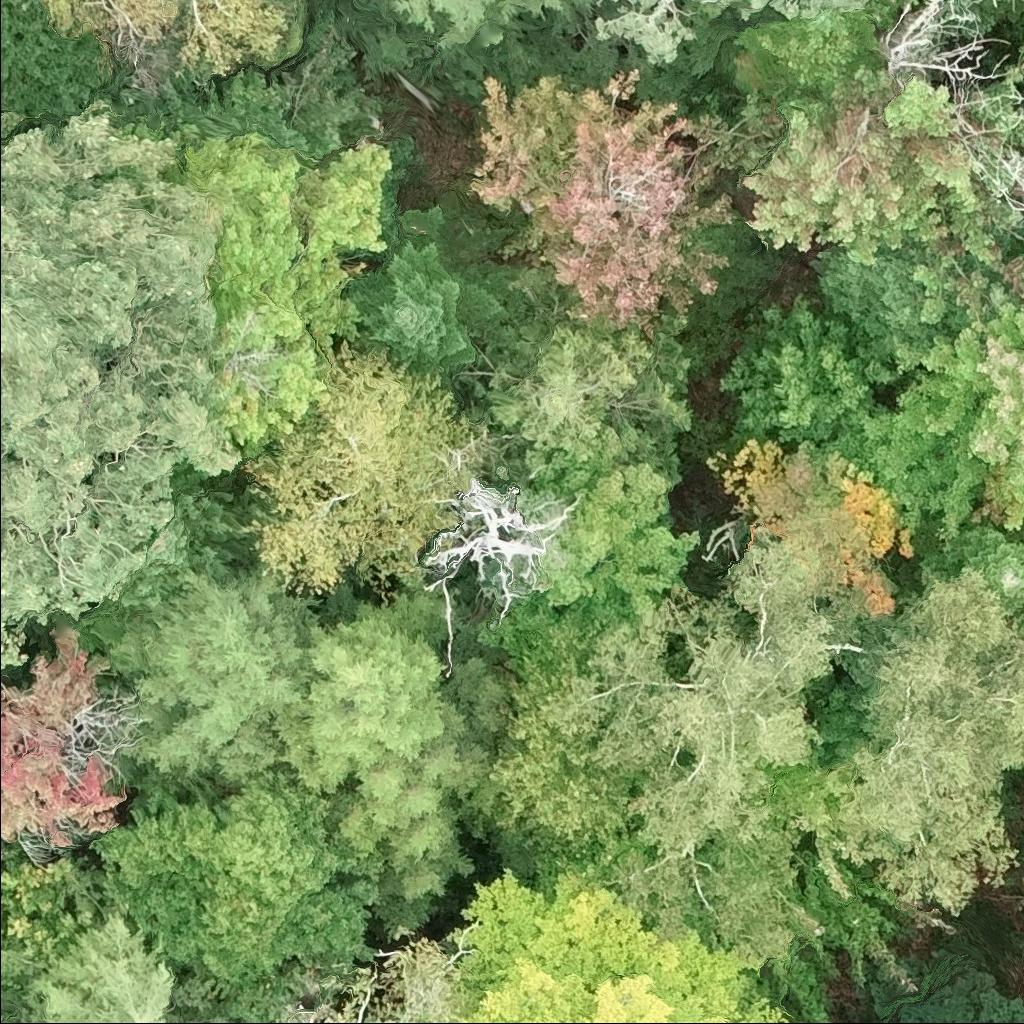crown: (543, 526, 872, 965), (0, 94, 249, 670), (268, 580, 511, 903), (736, 64, 1023, 328), (462, 68, 739, 339), (241, 341, 524, 598), (90, 763, 386, 995), (846, 563, 1023, 916), (166, 123, 396, 371), (829, 247, 1023, 540), (451, 862, 799, 1023), (453, 602, 643, 885), (471, 440, 704, 658), (108, 558, 324, 790), (345, 183, 524, 393), (475, 308, 692, 468), (421, 477, 584, 679), (0, 886, 231, 1023), (0, 625, 138, 853), (705, 293, 883, 458), (348, 0, 601, 95), (208, 298, 335, 458), (595, 0, 882, 66), (49, 0, 291, 72), (733, 9, 885, 110), (913, 513, 1023, 614), (378, 925, 469, 1023), (273, 962, 397, 1023), (1023, 886, 1023, 901)
